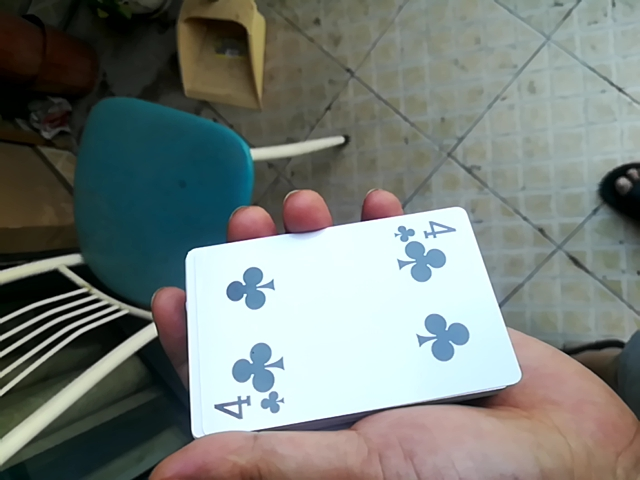mh 4: (180, 202, 521, 441)
